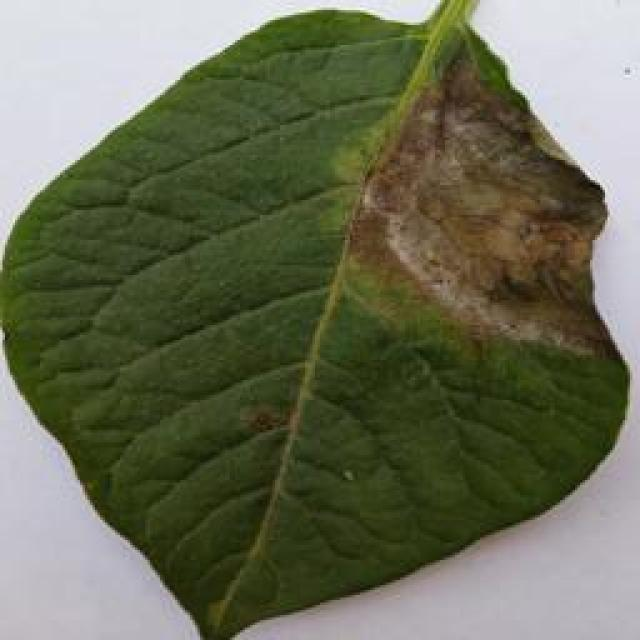Potato_Late_Blight: (5, 8, 634, 633)
